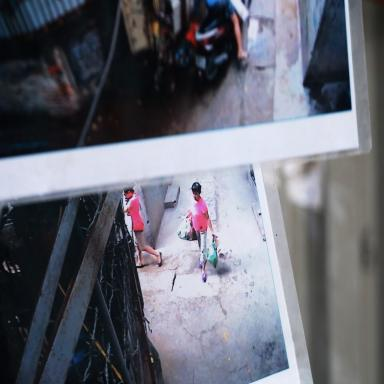plasticbag: (202, 236, 231, 268), (174, 216, 198, 244)
